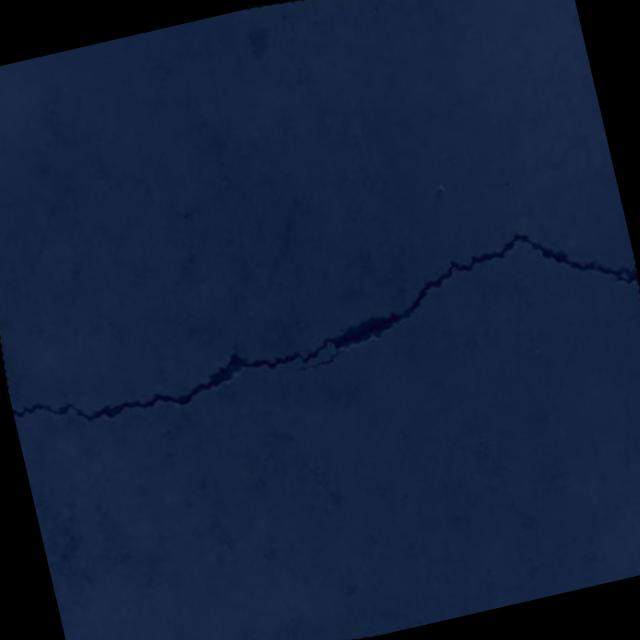crack: (0, 173, 640, 476)
